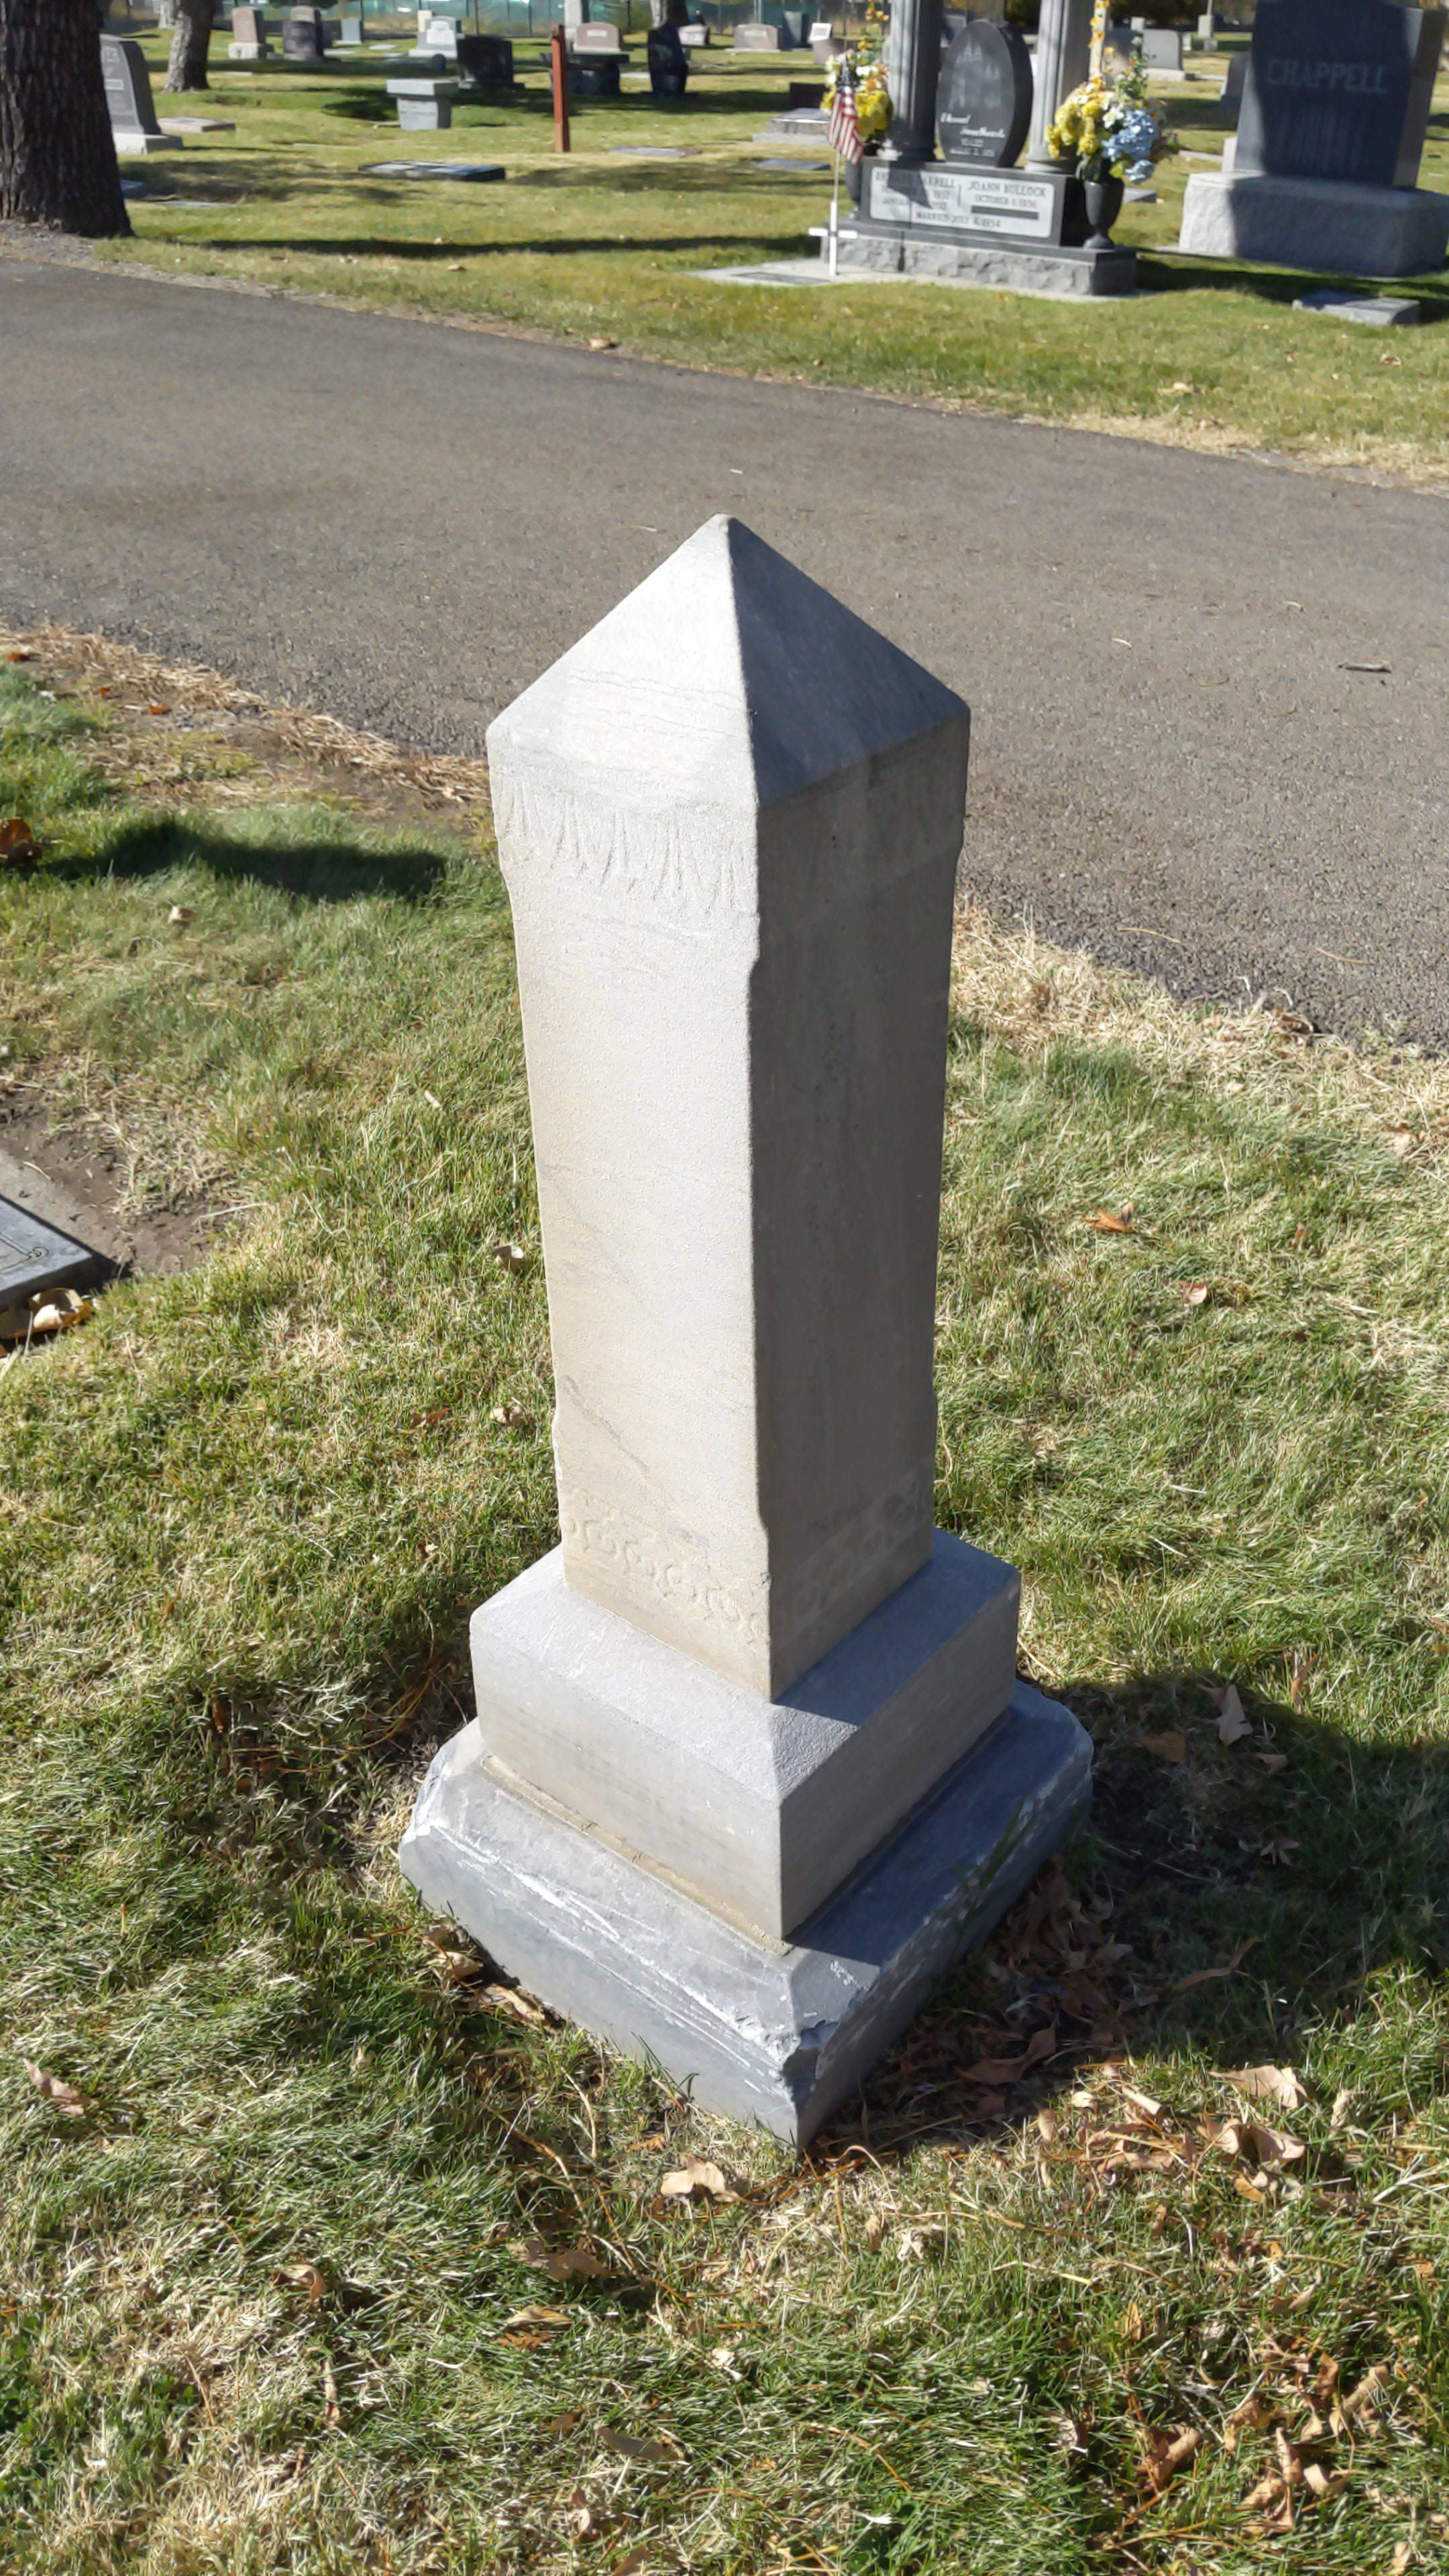obelisk: (469, 506, 1019, 1948)
